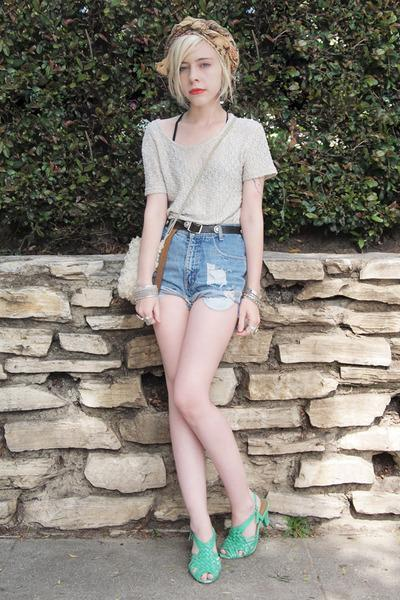bag: (113, 237, 151, 299)
hat: (168, 16, 238, 78)
shirt: (141, 114, 275, 227)
shoe: (191, 507, 280, 577)
shorts: (152, 224, 248, 323)
